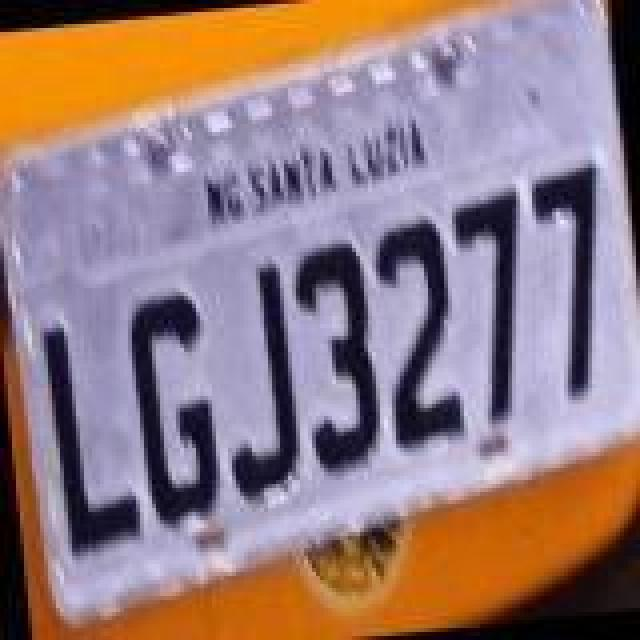2: (366, 216, 466, 456)
3: (284, 238, 388, 482)
7: (448, 190, 544, 434), (528, 158, 624, 402)
G: (124, 286, 228, 530)
J: (208, 256, 304, 504)
L: (38, 316, 146, 564)
